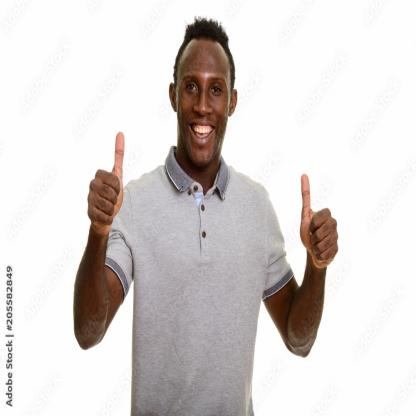Thumbs-Up: (294, 170, 342, 268), (86, 128, 125, 231)
